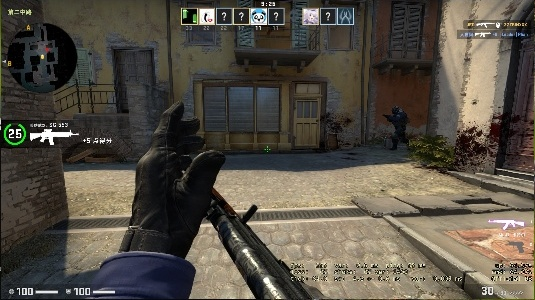body: (388, 105, 410, 149)
head: (391, 104, 400, 115)
